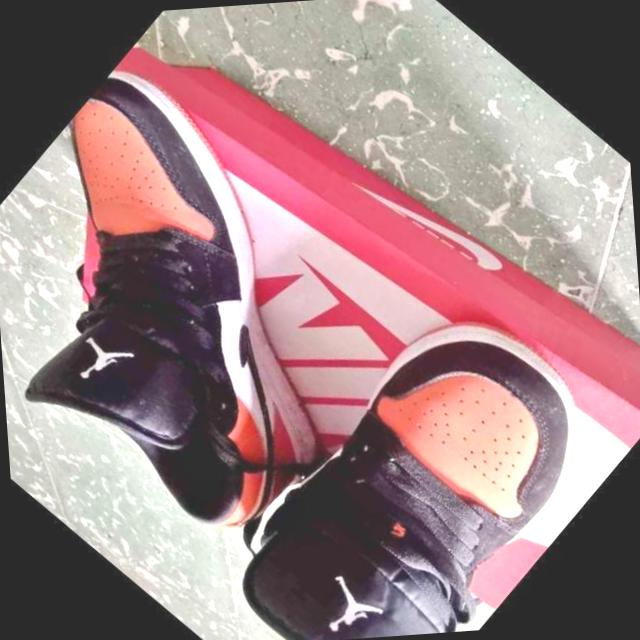nike_fake_jordan: (0, 35, 450, 580), (179, 257, 640, 640)
